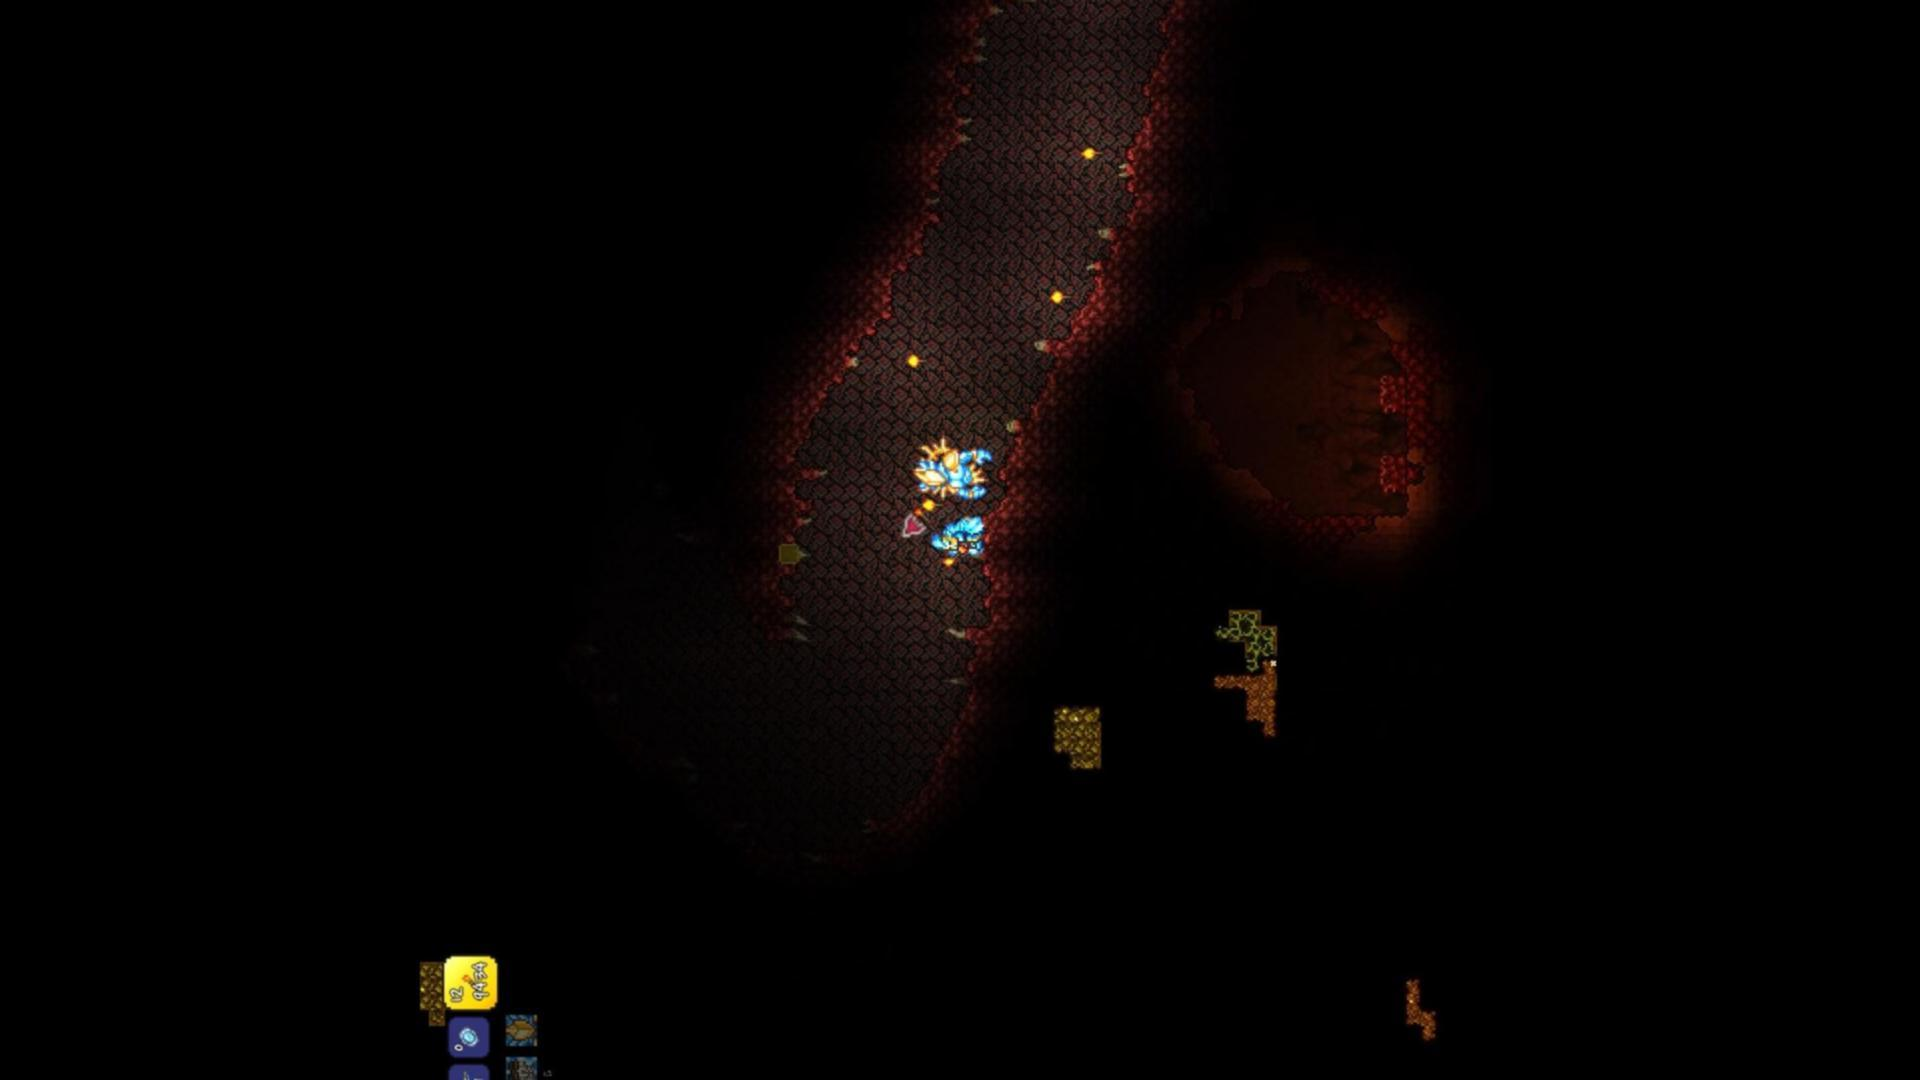altar: (1369, 452, 1407, 497), (1375, 372, 1408, 418)
